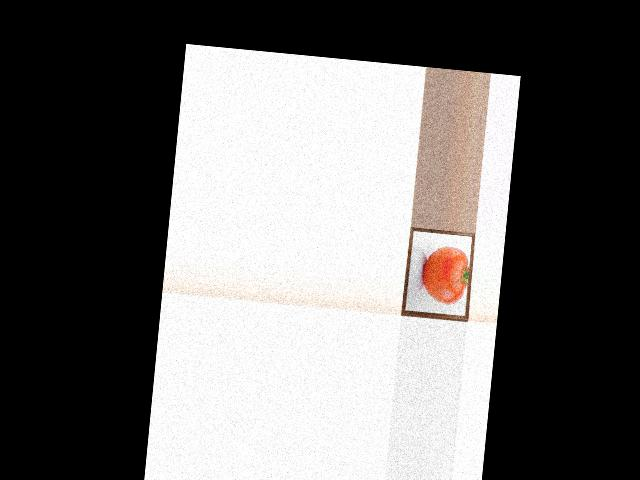tomato: (420, 244, 471, 305)
